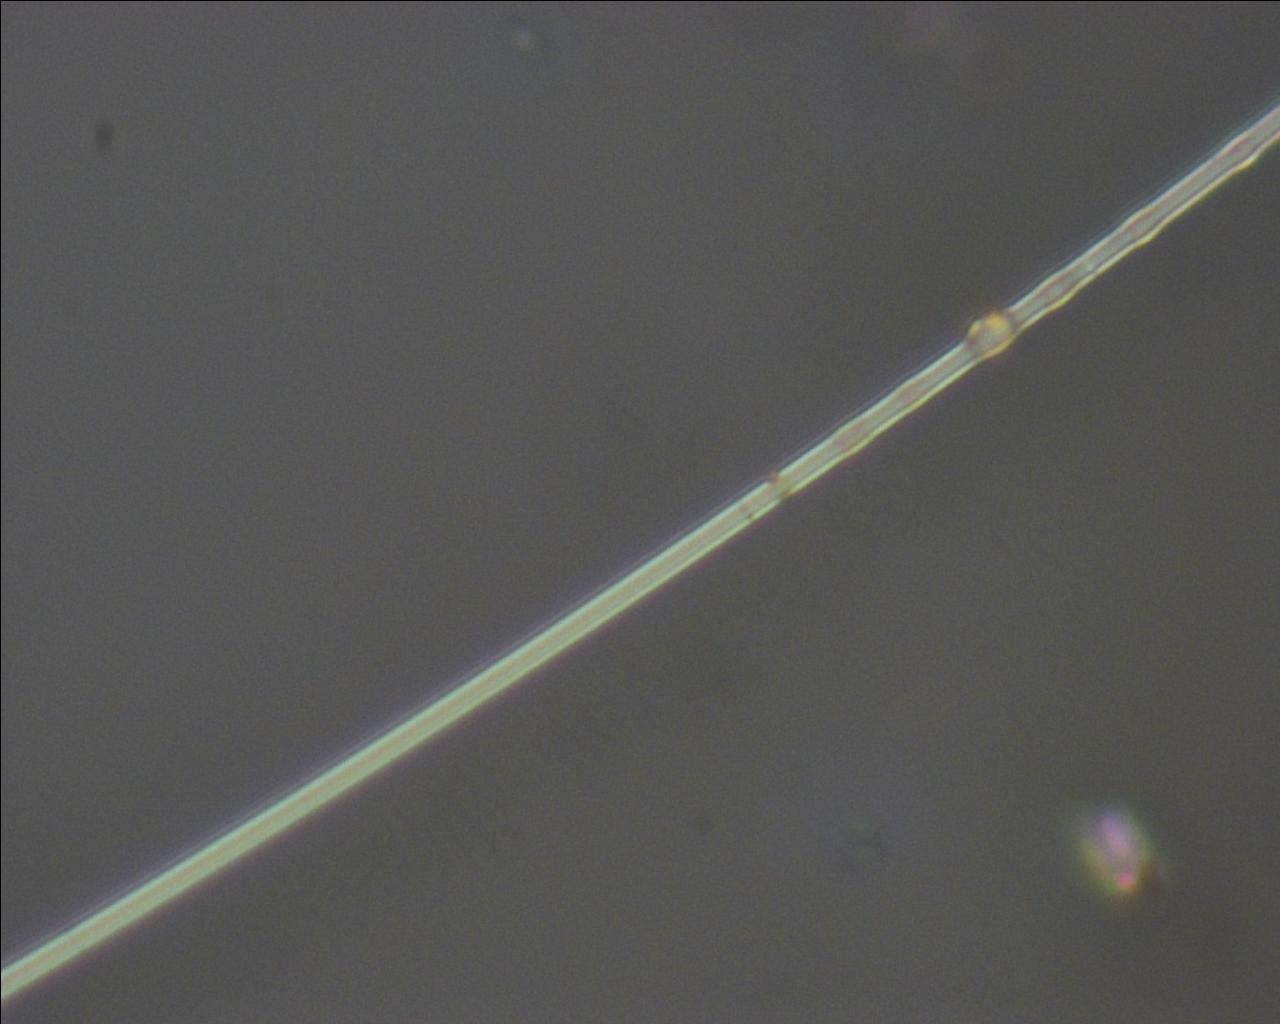fiber: (0, 96, 1280, 1002)
